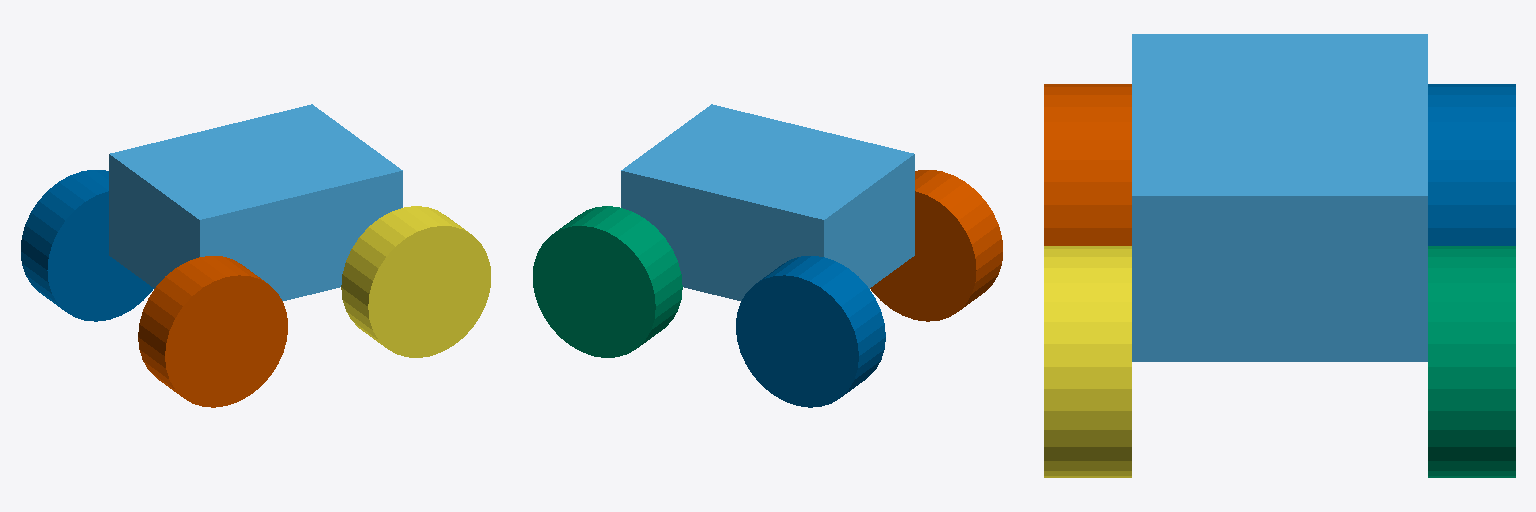
URDF robot description (fw_robot):
<?xml version="1.0" ?>
<!-- =================================================================================== -->
<!-- |    This document was autogenerated by xacro from simple_fwb.xacro               | -->
<!-- |    EDITING THIS FILE BY HAND IS NOT RECOMMENDED                                 | -->
<!-- =================================================================================== -->
<!-- A four wheel robot -->
<!-- 
    XACRO (XML Macro) is a powerful way of writing robot description files. These files can be later build as URDF
    files. They allow modularization (where you can include other XACRO files for the same robot, distributing a lot
    of load) and provide methods of creating and calling functions.

    Snippet reference page: https://wiki.ros.org/xacro

    Remember to include the xmlns for XACRO (so that the tags can be recognized).
-->
<robot name="fw_robot">
  <!-- Wheel height (m) -->
  <!-- Dummy link for the world -->
  <link name="world">
    </link>
  <!-- Main body link -->
  <link name="body">
    <inertial>
      <origin rpy="0.0 0.0 0.0" xyz="0.0 0.0 0.0"/>
      <mass value="20"/>
      <inertia ixx="0.4066666666666666" ixy="0.0" ixz="0.0" iyy="0.6058933333333333" iyz="0.0" izz="0.7872266666666665"/>
    </inertial>
    <visual>
      <origin rpy="0.0 0.0 0.0" xyz="0.0 0.0 0.0"/>
      <geometry>
        <box size="0.544 0.42 0.26"/>
      </geometry>
    </visual>
  </link>
  <!-- Joint for the main body link -->
  <joint name="body_world_fixed" type="fixed">
    <origin rpy="0.0 0.0 0.0" xyz="0.0 0.0 0.29500000000000004"/>
    <parent link="world"/>
    <child link="body"/>
  </joint>
  <!-- Link -->
  <link name="fl_wheel">
    <inertial>
      <origin rpy="0.0 0.0 0.0" xyz="0.0 0.0 0.0"/>
      <mass value="1"/>
      <inertia ixx="0.008108333333333334" ixy="0.0" ixz="0.0" iyy="0.008108333333333334" iyz="0.0" izz="0.013612500000000001"/>
    </inertial>
    <visual>
      <origin rpy="0.0 0.0 0.0" xyz="0.0 0.0 0.0"/>
      <geometry>
        <cylinder length="0.125" radius="0.165"/>
      </geometry>
    </visual>
  </link>
  <!-- Joint from wheel to body -->
  <joint name="fl_wheel_joint" type="continuous">
    <origin rpy="-1.5707963267948966 0.0 0.0" xyz="0.272 0.27249999999999996 -0.13"/>
    <parent link="body"/>
    <child link="fl_wheel"/>
    <axis xyz="0.0 0.0 1.0"/>
  </joint>
  <!-- Link -->
  <link name="fr_wheel">
    <inertial>
      <origin rpy="0.0 0.0 0.0" xyz="0.0 0.0 0.0"/>
      <mass value="1"/>
      <inertia ixx="0.008108333333333334" ixy="0.0" ixz="0.0" iyy="0.008108333333333334" iyz="0.0" izz="0.013612500000000001"/>
    </inertial>
    <visual>
      <origin rpy="0.0 0.0 0.0" xyz="0.0 0.0 0.0"/>
      <geometry>
        <cylinder length="0.125" radius="0.165"/>
      </geometry>
    </visual>
  </link>
  <!-- Joint from wheel to body -->
  <joint name="fr_wheel_joint" type="continuous">
    <origin rpy="-1.5707963267948966 0.0 0.0" xyz="0.272 -0.27249999999999996 -0.13"/>
    <parent link="body"/>
    <child link="fr_wheel"/>
    <axis xyz="0.0 0.0 1.0"/>
  </joint>
  <!-- Link -->
  <link name="hl_wheel">
    <inertial>
      <origin rpy="0.0 0.0 0.0" xyz="0.0 0.0 0.0"/>
      <mass value="1"/>
      <inertia ixx="0.008108333333333334" ixy="0.0" ixz="0.0" iyy="0.008108333333333334" iyz="0.0" izz="0.013612500000000001"/>
    </inertial>
    <visual>
      <origin rpy="0.0 0.0 0.0" xyz="0.0 0.0 0.0"/>
      <geometry>
        <cylinder length="0.125" radius="0.165"/>
      </geometry>
    </visual>
  </link>
  <!-- Joint from wheel to body -->
  <joint name="hl_wheel_joint" type="continuous">
    <origin rpy="-1.5707963267948966 0.0 0.0" xyz="-0.272 0.27249999999999996 -0.13"/>
    <parent link="body"/>
    <child link="hl_wheel"/>
    <axis xyz="0.0 0.0 1.0"/>
  </joint>
  <!-- Link -->
  <link name="hr_wheel">
    <inertial>
      <origin rpy="0.0 0.0 0.0" xyz="0.0 0.0 0.0"/>
      <mass value="1"/>
      <inertia ixx="0.008108333333333334" ixy="0.0" ixz="0.0" iyy="0.008108333333333334" iyz="0.0" izz="0.013612500000000001"/>
    </inertial>
    <visual>
      <origin rpy="0.0 0.0 0.0" xyz="0.0 0.0 0.0"/>
      <geometry>
        <cylinder length="0.125" radius="0.165"/>
      </geometry>
    </visual>
  </link>
  <!-- Joint from wheel to body -->
  <joint name="hr_wheel_joint" type="continuous">
    <origin rpy="-1.5707963267948966 0.0 0.0" xyz="-0.272 -0.27249999999999996 -0.13"/>
    <parent link="body"/>
    <child link="hr_wheel"/>
    <axis xyz="0.0 0.0 1.0"/>
  </joint>
  <!-- Hind Right -->
</robot>

--- Render facts (derived) ---
Views: 3 orthographic renders of the robot side by side, from view 1: azimuth 30°, elevation 25°; view 2: azimuth 150°, elevation 25°; view 3: azimuth 270°, elevation 25°.
Robot: fw_robot — 6 links, 5 joints (4 continuous, 1 fixed); root link world; default pose: all joints at 0.
Links seen in each view (by area): view 1: body, fr_wheel, hr_wheel, hl_wheel; view 2: body, fl_wheel, hl_wheel, hr_wheel; view 3: body, fl_wheel, fr_wheel, hl_wheel, hr_wheel.
Link boxes in pixels (x1=…): body: x1=109, y1=104, x2=402, y2=300; fr_wheel: x1=341, y1=206, x2=490, y2=357; hr_wheel: x1=138, y1=256, x2=287, y2=407; hl_wheel: x1=21, y1=170, x2=153, y2=321; body: x1=621, y1=104, x2=914, y2=300; fl_wheel: x1=533, y1=206, x2=682, y2=357; hl_wheel: x1=736, y1=256, x2=885, y2=407; hr_wheel: x1=870, y1=170, x2=1002, y2=321; body: x1=1132, y1=34, x2=1427, y2=361; fl_wheel: x1=1428, y1=246, x2=1515, y2=477; fr_wheel: x1=1044, y1=246, x2=1131, y2=477; hl_wheel: x1=1428, y1=84, x2=1515, y2=245; hr_wheel: x1=1044, y1=84, x2=1131, y2=245.
Bounding box of the posed robot: 0.874 × 0.67 × 0.425 m (x, y, z).
Geometry: primitives only (box / cylinder / sphere), no mesh files.